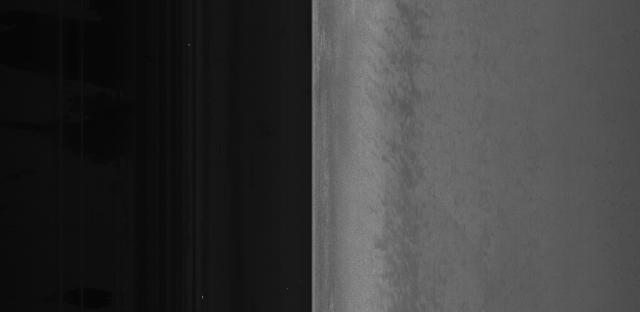silk_spot: (362, 109, 429, 197)
